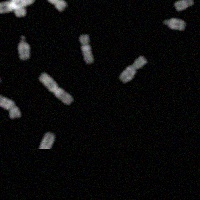chromosome: (38, 72, 73, 105), (119, 57, 147, 83), (0, 93, 21, 118), (0, 0, 36, 14), (78, 34, 93, 64), (161, 16, 186, 32), (16, 35, 31, 60), (35, 0, 66, 12), (7, 0, 26, 17), (39, 131, 55, 149), (173, 0, 194, 12), (0, 64, 1, 86)
